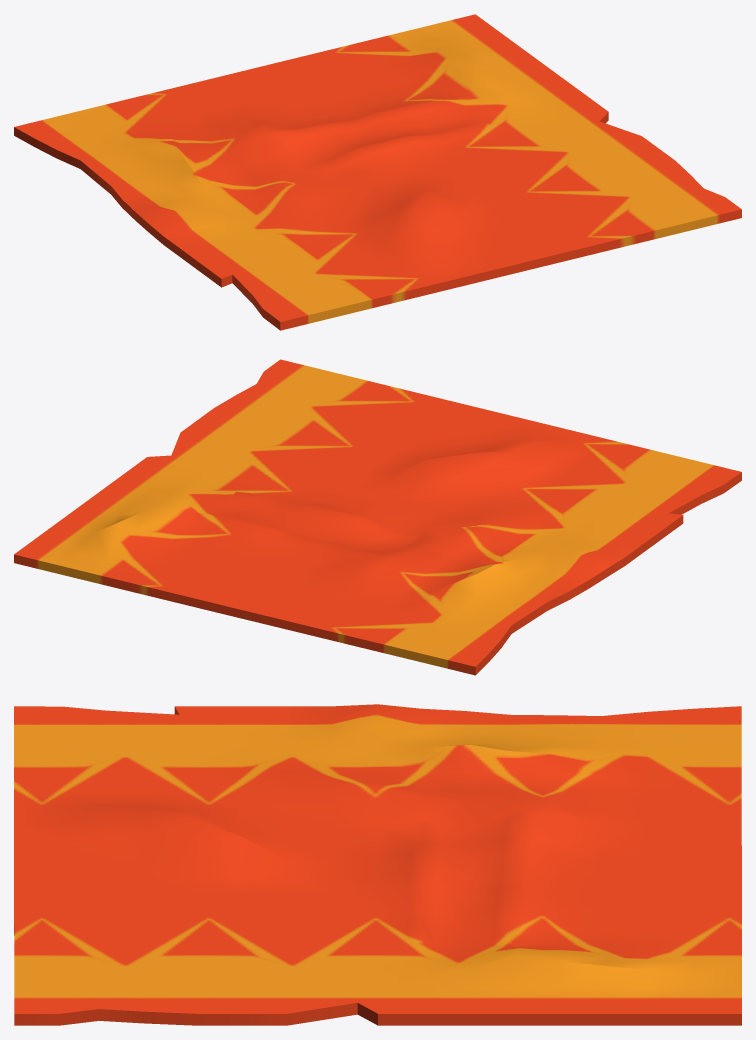
The model's file is Rug_02H.glb.
3 renders of one model, top to bottom at view 1: azimuth 30°, elevation 25°; view 2: azimuth 150°, elevation 25°; view 3: azimuth 270°, elevation 25°, orthographic. The views are drawn at different scales.
Visible parts, largest first — view 1: Rug_02H; view 2: Rug_02H; view 3: Rug_02H.
Boxes of the visible parts, left/top/right/bottom form: Rug_02H: left=14, top=14, right=741, bottom=330; Rug_02H: left=14, top=359, right=741, bottom=675; Rug_02H: left=14, top=704, right=741, bottom=1025.
Bounding box in the file's own units: 4 × 0.2601 × 4.
Materials: 1 (1 with a texture image).
